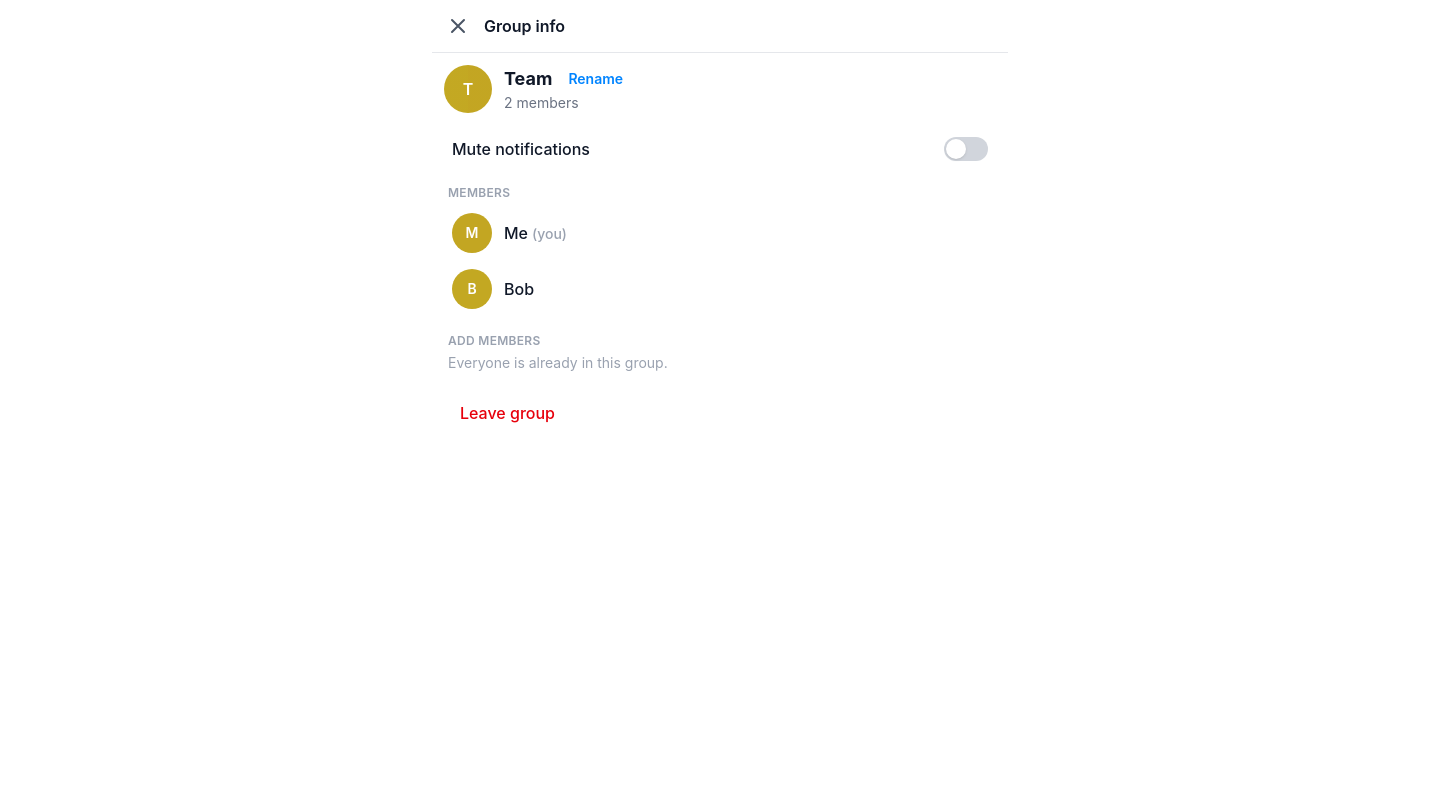
Test: GroupInfo — mute toggle › does not toggle again while a request is in flight
Step 1. Click the switch named "Mute notifications" → point(966, 149), box [944,137,988,161]
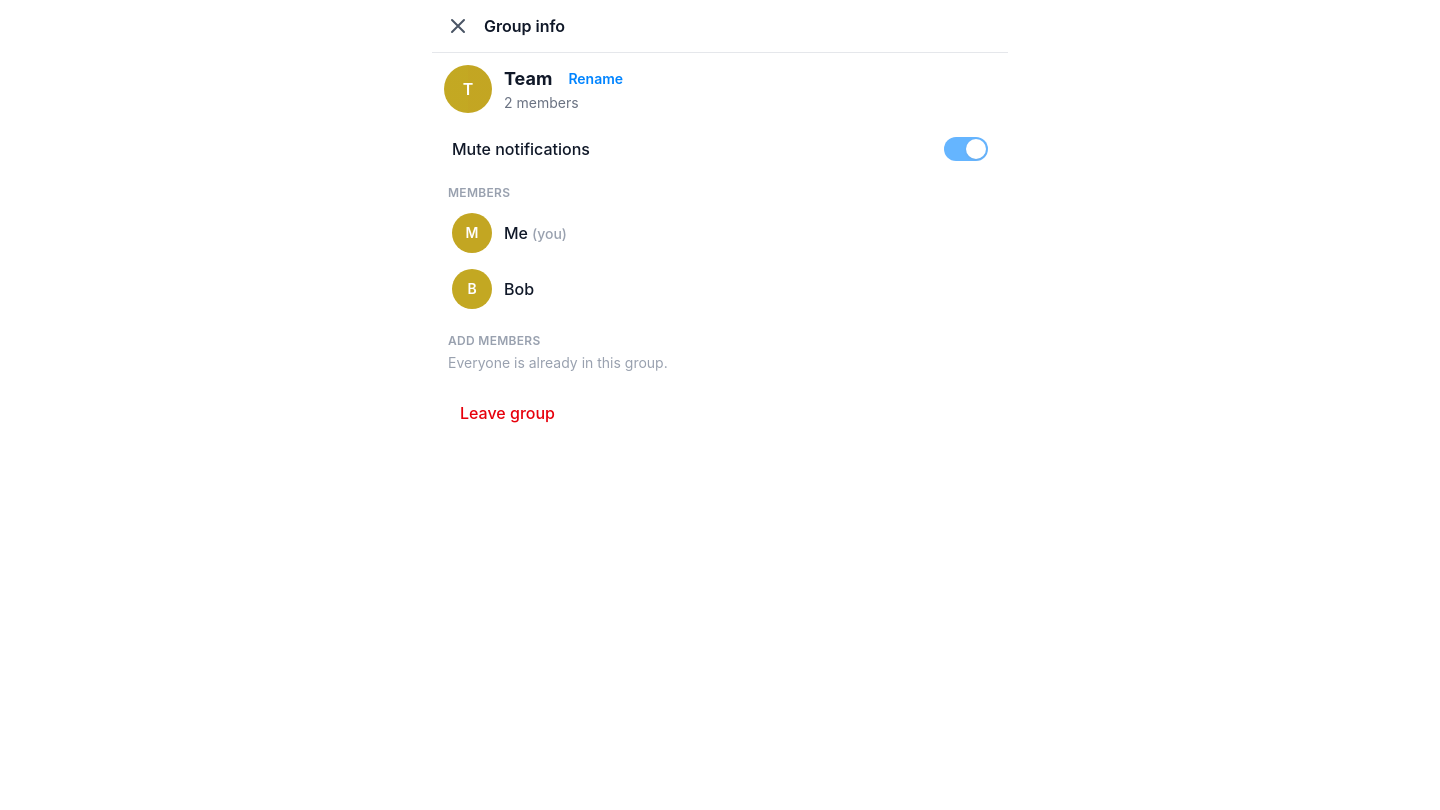
expect the switch named "Mute notifications" is disabled: met
# A second click while busy is a no-op (still just optimistically true).
Step 2. Click the switch named "Mute notifications" → point(966, 149), box [944,137,988,161]
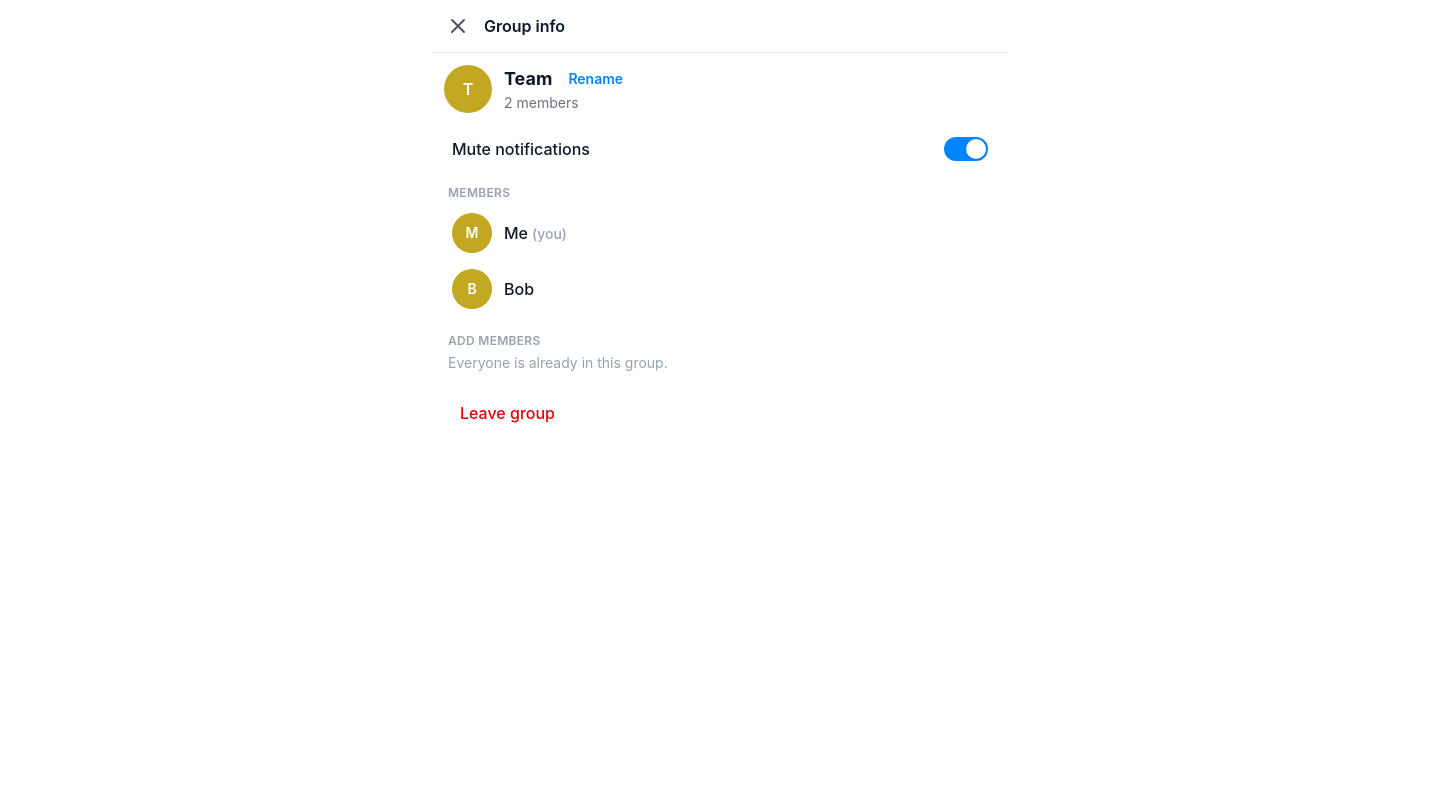
expect the switch named "Mute notifications" is enabled: met, box [944,137,988,161]
